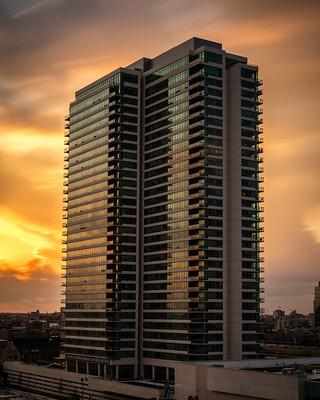building: (58, 32, 270, 383)
